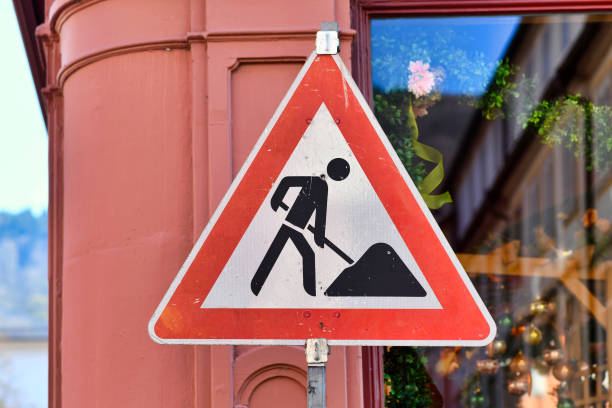yol_calismasi_levha: (146, 49, 502, 345)
